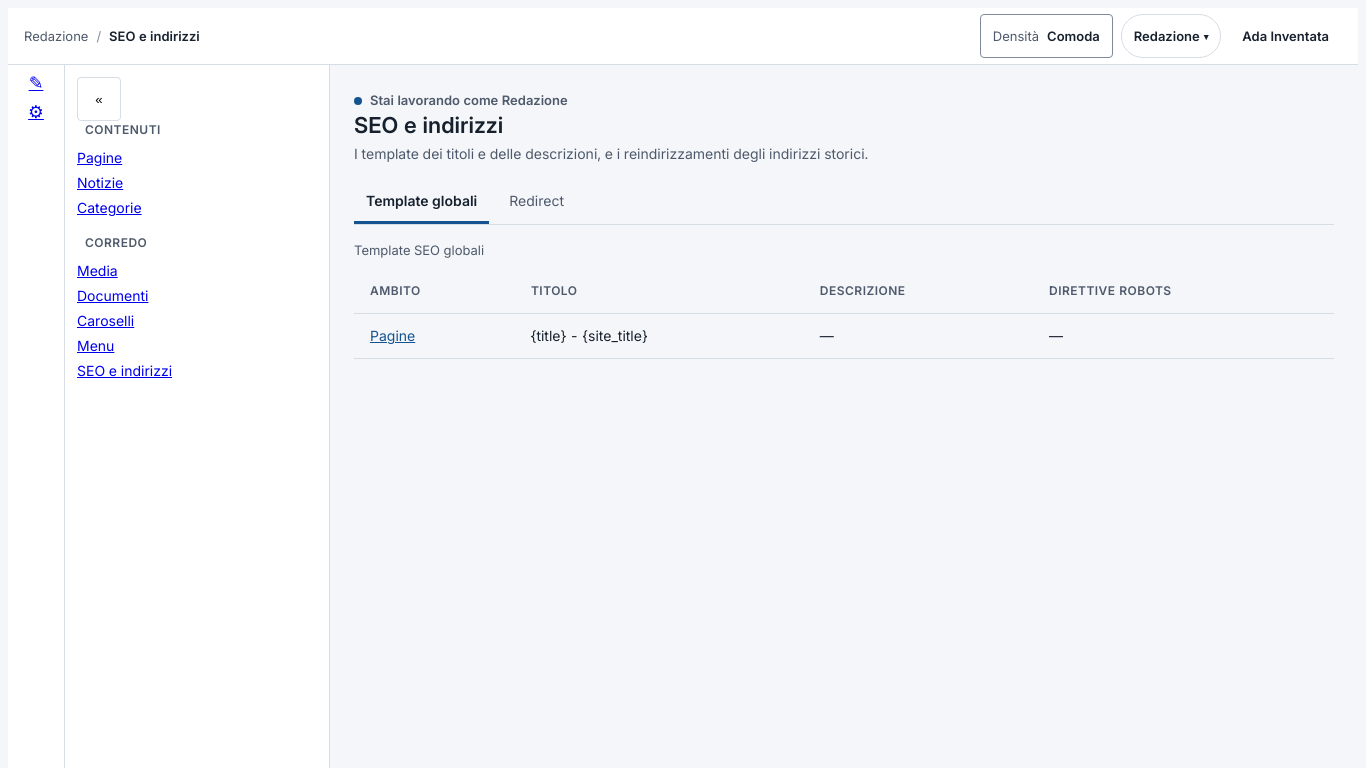
Test case: W8-17: SEO e indirizzi › «Crea il redirect»: lo dice e filtra l’elenco sul suo indirizzo, così la riga si vede
This screenshot has width=1366, height=768.
Click the tab "Redirect" at (537, 202), box [497,180,576,224]
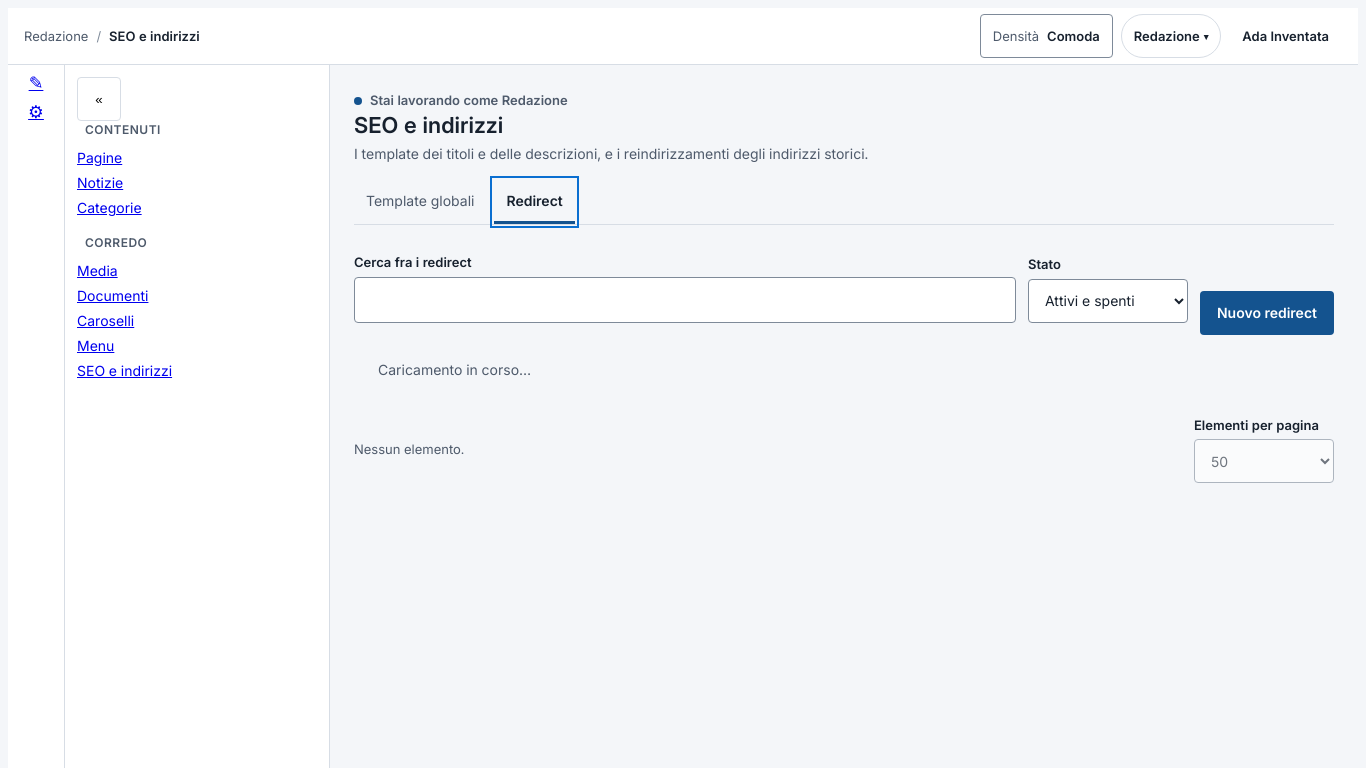
Click the button "Nuovo redirect" at (1267, 313), box [1200,291,1334,335]
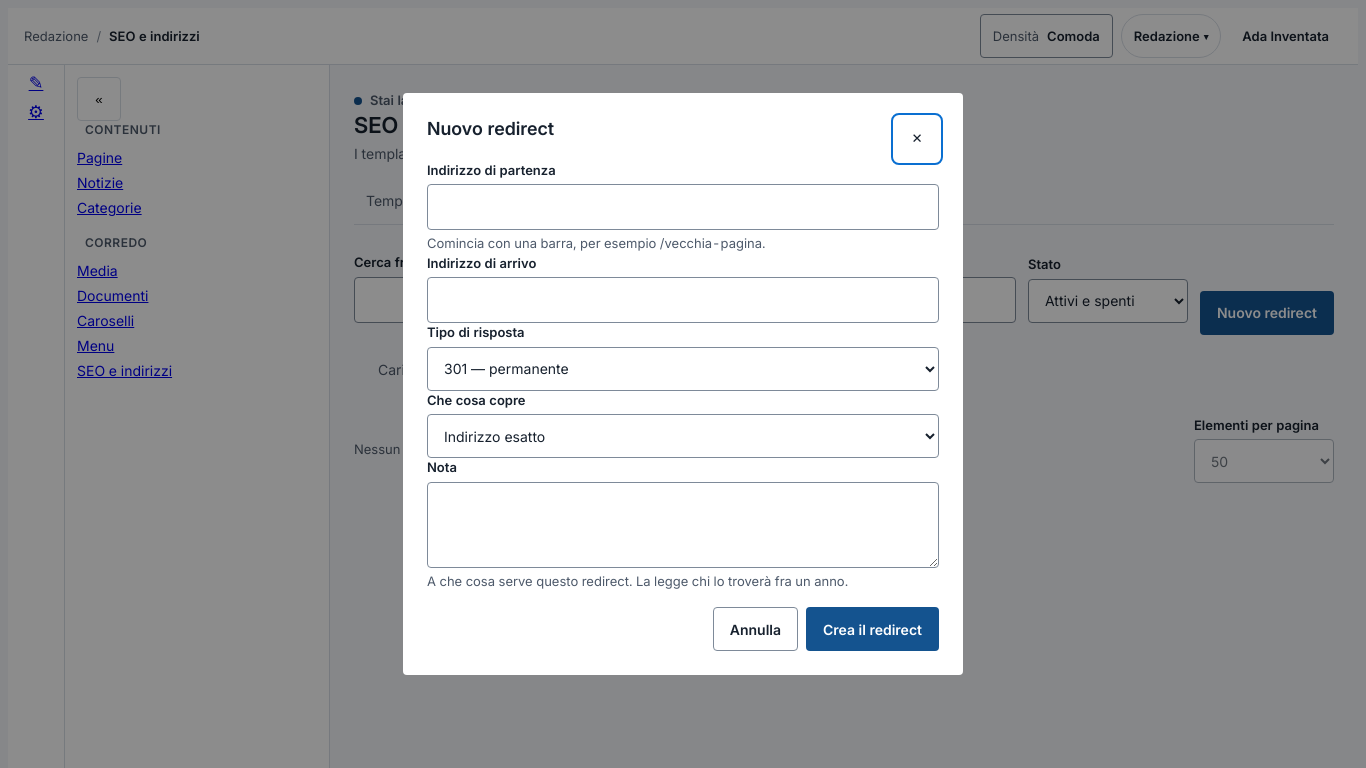
Type "/vecchio-inventato/" into the field labelled "Indirizzo di partenza" at (683, 207), box [427,184,939,230]
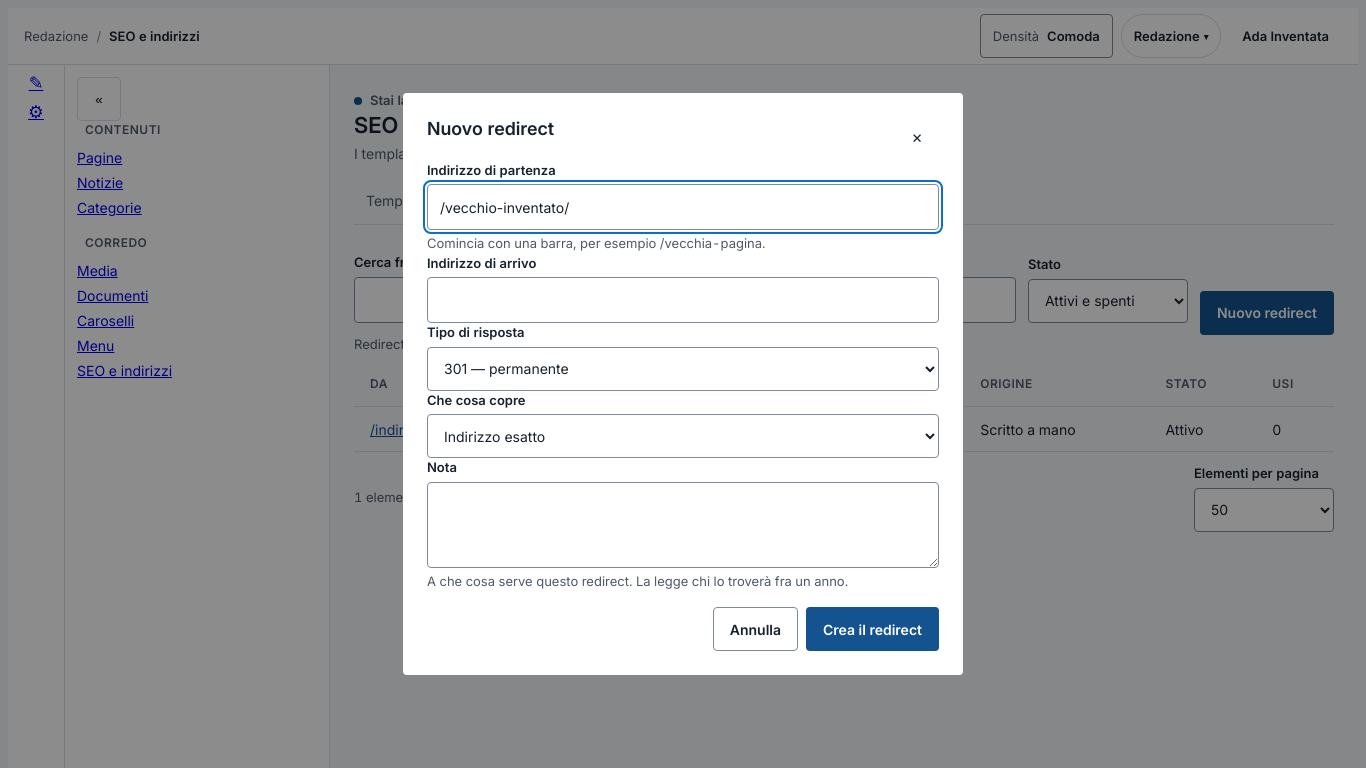
Type "/nuovo-inventato/" into the field labelled "Indirizzo di arrivo" at (683, 300), box [427,277,939,323]
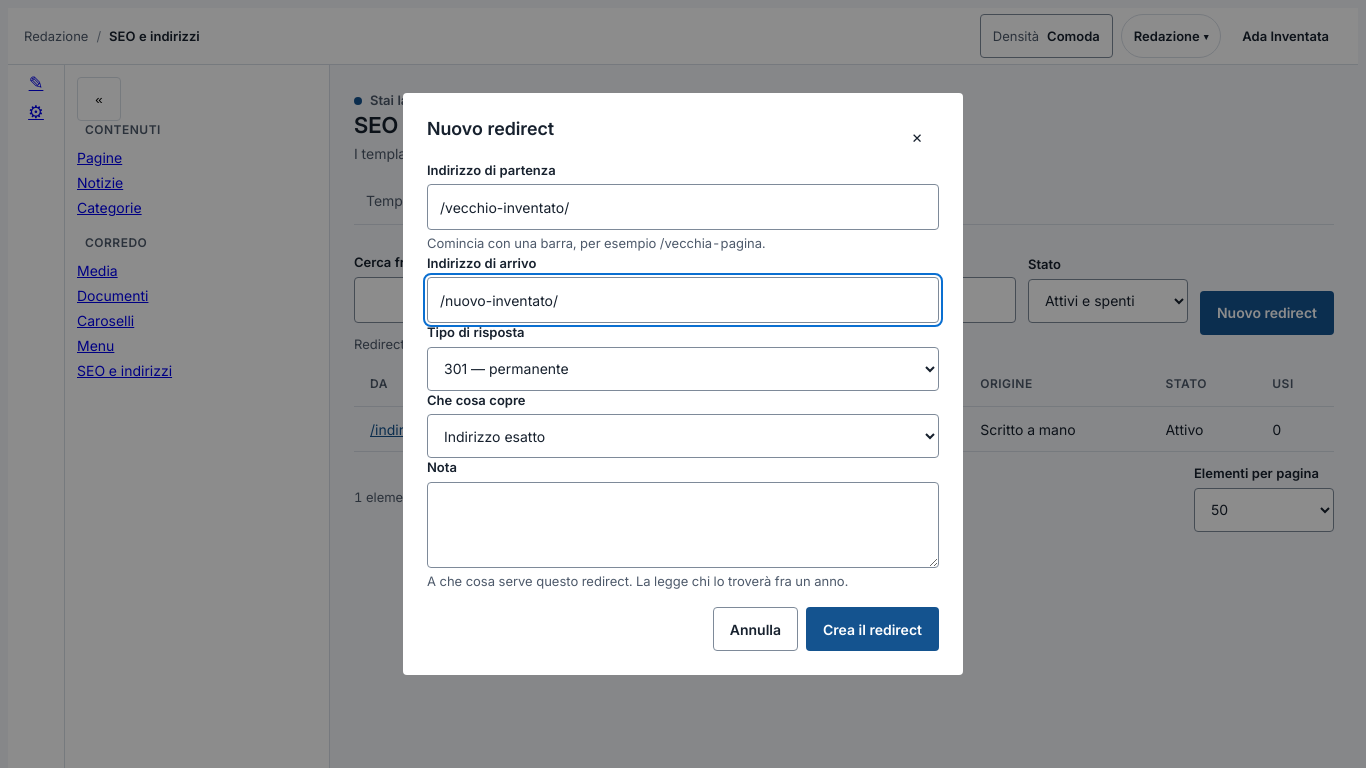
Click the button "Crea il redirect" at (872, 629), box [806,607,939,651]
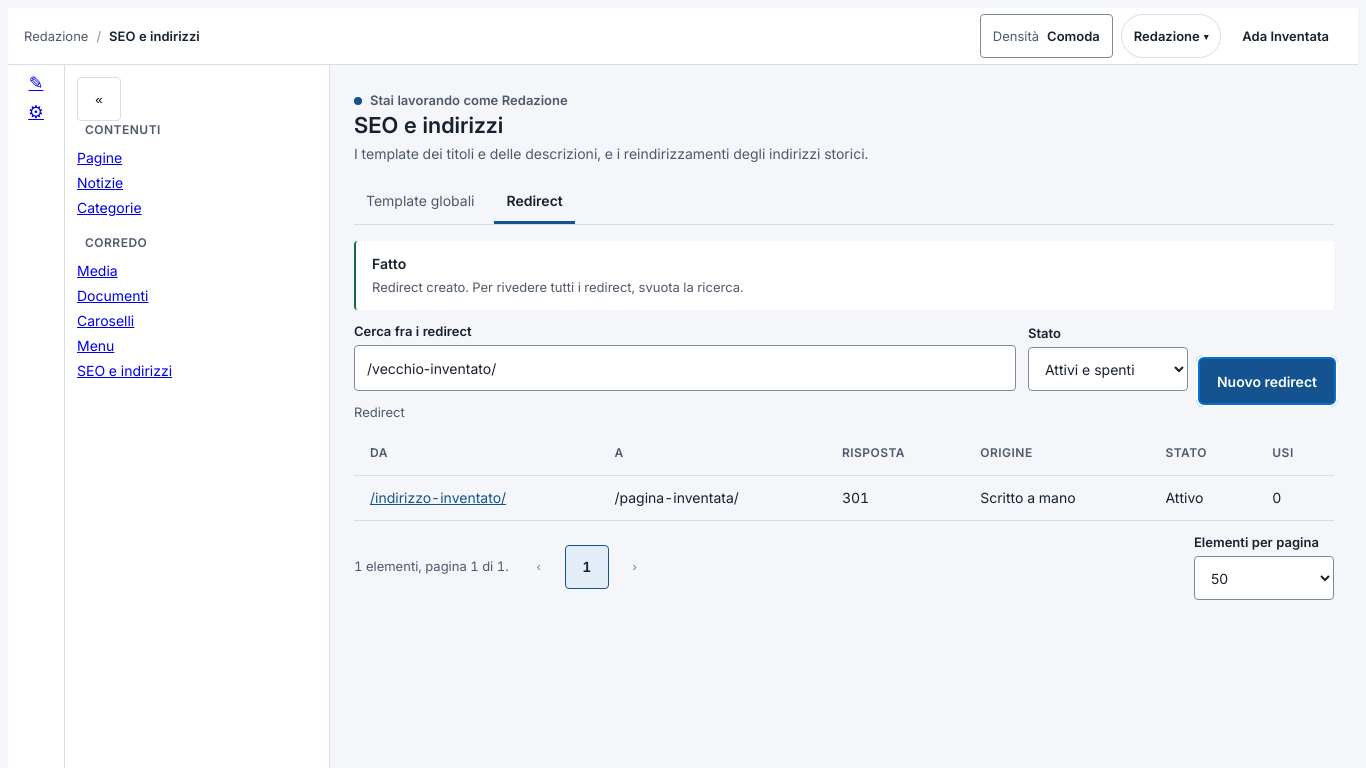
Expected: the text "Redirect creato. Per rivedere tutti i redirect, svuota la ricerca." is shown, [372,279,744,295]
Expected: the text "Fatto" is shown, [372,255,406,272]
Expected: the field labelled "Cerca fra i redirect" holds "/vecchio-inventato/", [354,345,1016,391]
